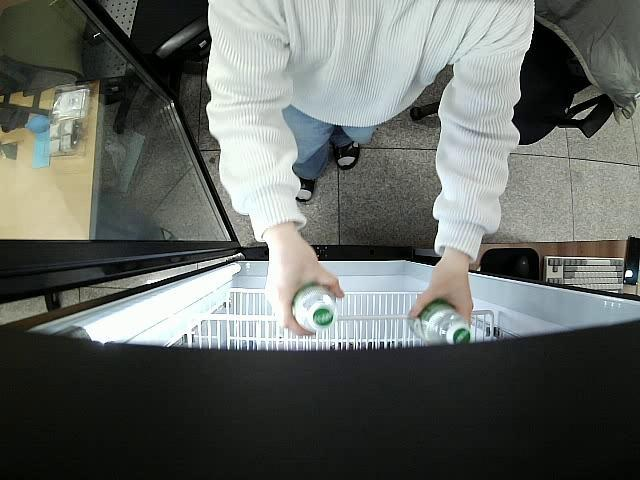18_trevi: (408, 300, 472, 346), (292, 284, 338, 332)
